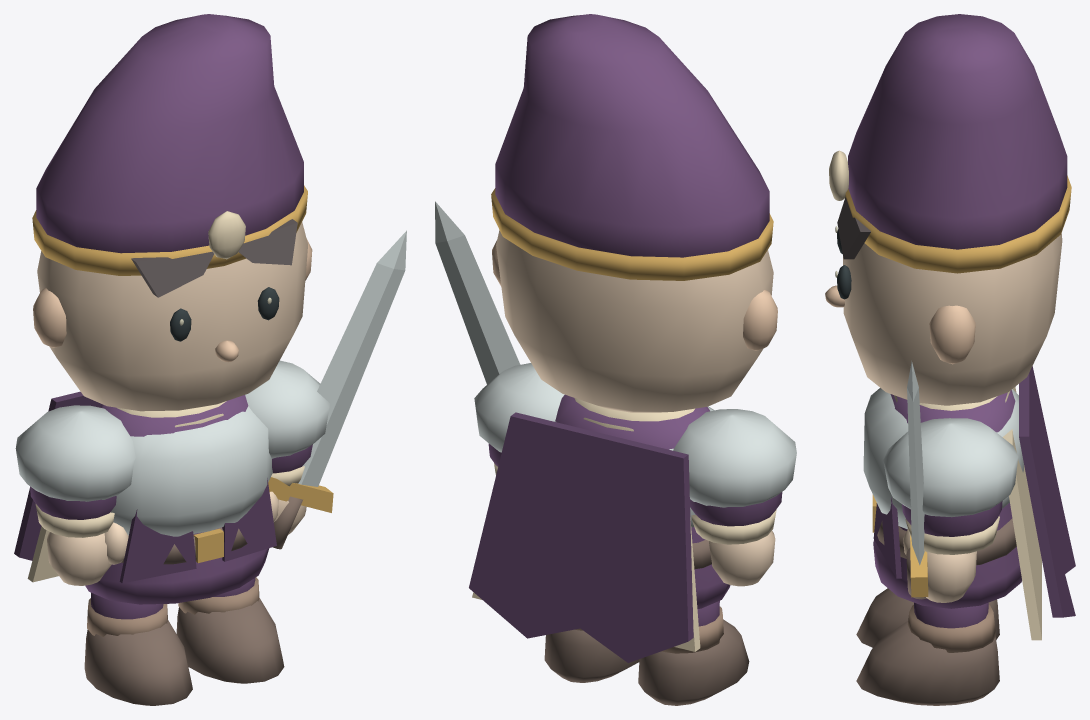
The model's file is knight.glb.
3 renders of one model, left to right at view 1: azimuth 30°, elevation 25°; view 2: azimuth 150°, elevation 25°; view 3: azimuth 270°, elevation 25°, orthographic. The views are drawn at different scales.
Visible parts, largest first — view 1: Folded Persian tiara, Soft cheek head, Rounded breastplate, Big shoulder armour, Short folded tunic, Shaped bevel sword, Round leather boot, Round leather boot.001, Big shoulder armour.001, Tiara gold band, Coat fold, Little mitten (+18 smaller); view 2: Folded Persian tiara, Short scalloped cape, Soft cheek head, Big shoulder armour, Tiara gold band, Shaped bevel sword, Round leather boot, Short folded tunic, Big shoulder armour.001, Round leather boot.001, Little mitten, Ear (+5 smaller); view 3: Folded Persian tiara, Soft cheek head, Big shoulder armour.001, Round leather boot.001, Short scalloped cape, Short folded tunic, Tiara gold band, Rounded breastplate, Persian shoulder drape, Shaped bevel sword, Ear.001, Little mitten.001 (+12 smaller).
Boxes of the visible parts, x1,y1,x2,y2 form: Folded Persian tiara: (36,14,303,253); Soft cheek head: (37,222,307,411); Rounded breastplate: (111,406,272,536); Big shoulder armour: (15,405,135,501); Short folded tunic: (85,395,269,604); Shaped bevel sword: (298,230,406,486); Round leather boot: (84,619,192,705); Round leather boot.001: (176,597,284,683); Big shoulder armour.001: (245,360,329,458); Tiara gold band: (32,185,307,275); Coat fold: (119,509,196,583); Little mitten: (47,532,111,585); Folded Persian tiara: (495,14,769,257); Short scalloped cape: (469,412,693,662); Soft cheek head: (496,230,773,412); Big shoulder armour: (673,409,796,507); Tiara gold band: (491,188,773,280); Shaped bevel sword: (435,201,520,384); Round leather boot: (638,619,749,705); Short folded tunic: (555,394,730,608); Big shoulder armour.001: (474,363,564,452); Round leather boot.001: (544,629,639,682); Little mitten: (709,531,775,586); Ear: (743,290,777,350); Folded Persian tiara: (848,14,1067,249); Soft cheek head: (843,233,1062,405); Big shoulder armour.001: (883,418,1018,517); Round leather boot.001: (856,620,999,705); Short scalloped cape: (1019,366,1075,617); Short folded tunic: (873,390,1021,608); Tiara gold band: (844,175,1071,273); Rounded breastplate: (863,388,1023,529); Persian shoulder drape: (1002,387,1041,640); Shaped bevel sword: (907,361,924,565); Ear.001: (929,305,975,364); Little mitten.001: (926,551,976,602).
Size of the model in its own units: 1.04 by 1.72 by 0.594.
